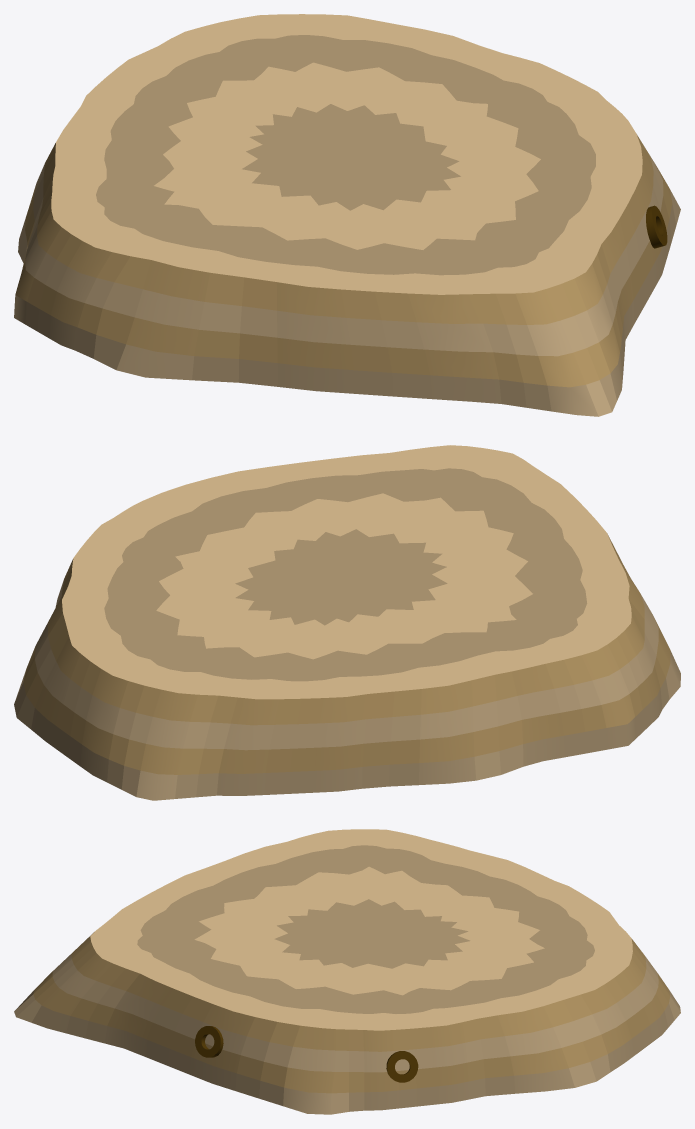
The model's file is SM_Stumpy.fbx.
3 views of the same model, one above another, from view 1: azimuth 30°, elevation 25°; view 2: azimuth 150°, elevation 25°; view 3: azimuth 270°, elevation 25° (orthographic). The views are drawn at different scales.
Visible parts, largest first — view 1: polySurface5; view 2: polySurface5; view 3: polySurface5.
Part boxes in pixels (<box>): polySurface5: <box>14,14,680,416</box>; polySurface5: <box>14,445,680,800</box>; polySurface5: <box>14,829,680,1114</box>.
Size of the model in its own units: 10.95 by 1.56 by 13.49.
